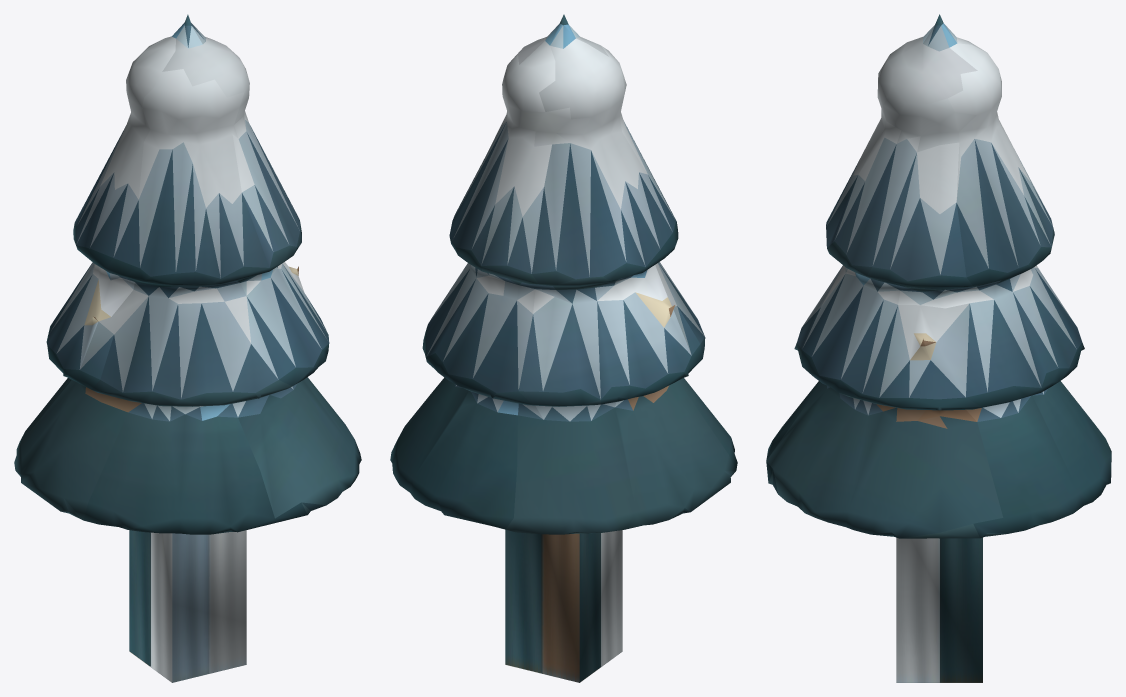
Rendered from tree_pine_a.glb.
The picture shows the model from 3 angles, left to right: view 1: azimuth 30°, elevation 25°; view 2: azimuth 150°, elevation 25°; view 3: azimuth 270°, elevation 25°; orthographic projection.
Parts seen in each view (by area): view 1: lod0, col; view 2: lod0, col; view 3: lod0, col.
Boxes of the visible parts, left/top/right/bottom form: lod0: left=14, top=14, right=361, bottom=534; col: left=129, top=530, right=246, bottom=682; lod0: left=390, top=14, right=737, bottom=534; col: left=505, top=529, right=622, bottom=682; lod0: left=766, top=14, right=1111, bottom=538; col: left=896, top=537, right=982, bottom=682.
Size of what is drawn, in the model's own units: 2.39 by 4.97 by 2.39.
2 materials, 2 textured.
